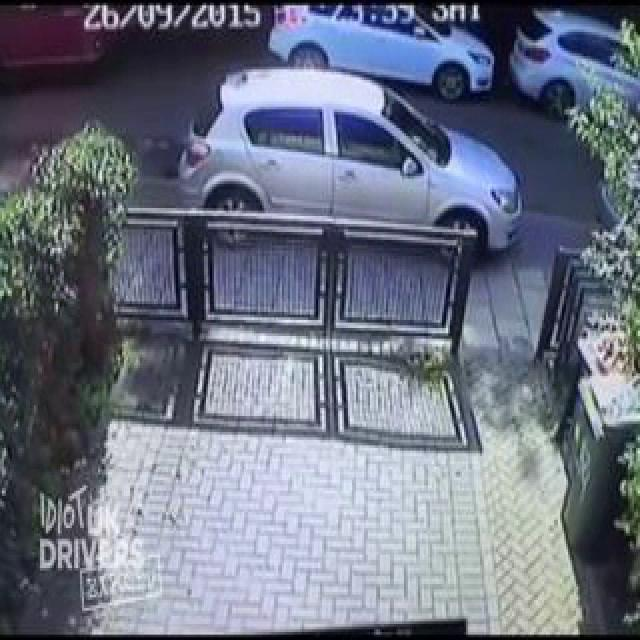road accidents: (138, 20, 638, 309)
